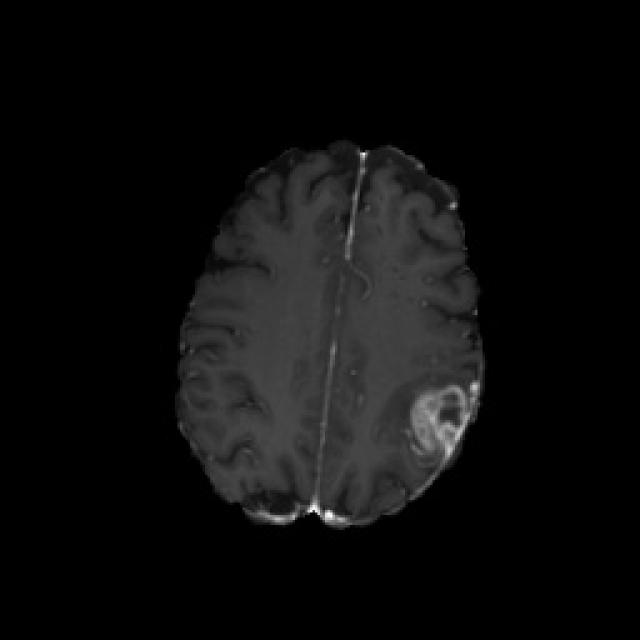negative: (410, 386, 472, 456)
